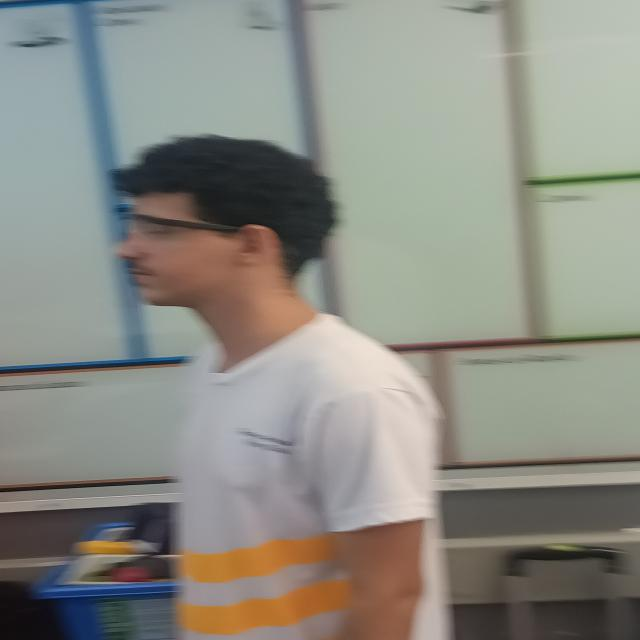oculos-epi: (117, 207, 244, 247)
